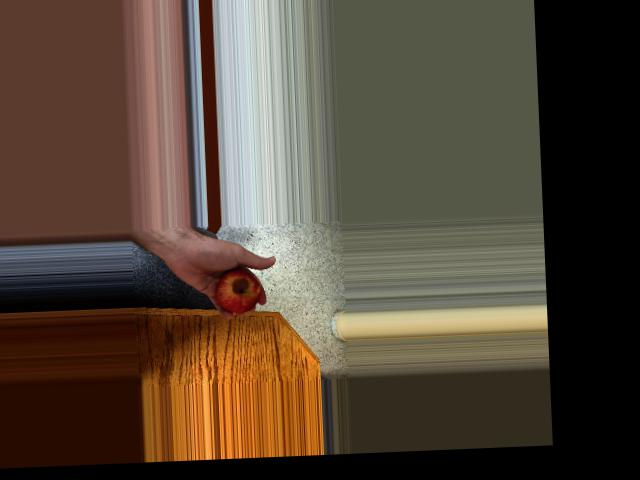apple: (208, 262, 264, 313)
